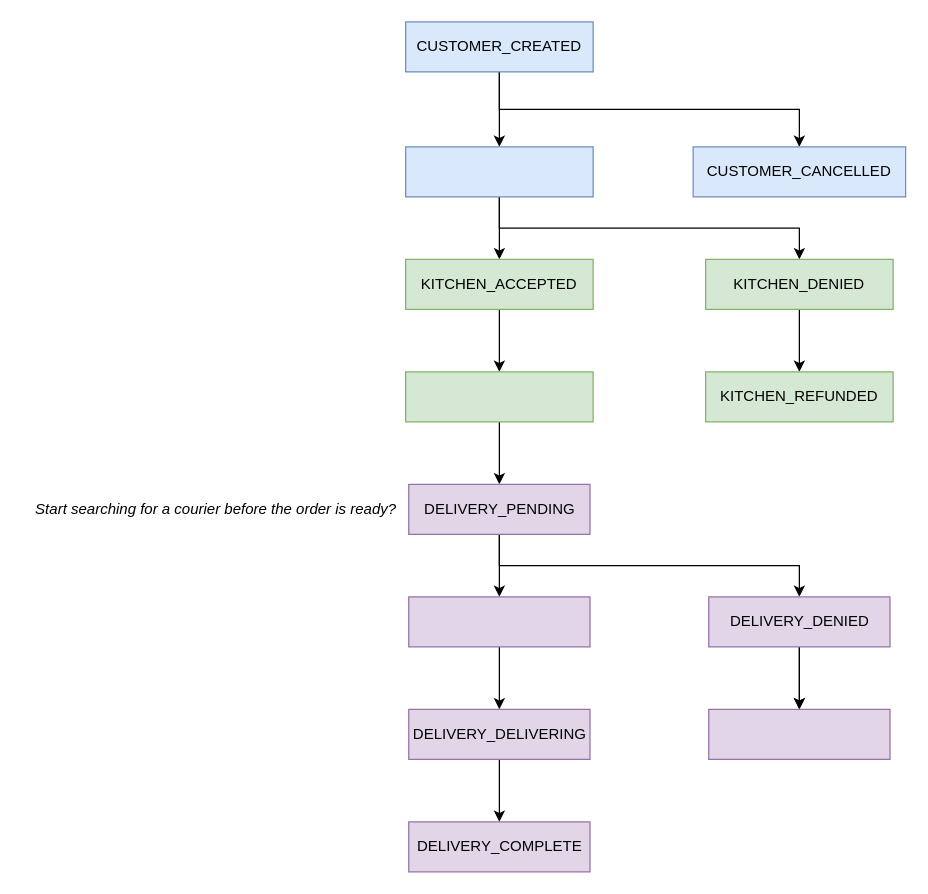
Image size: 928x894. Some labels were removed from this diagram. Each missing label, with the box of its shape:
CUSTOMER_PAID: (404, 146, 593, 197)
DELIVERY_PICKING: (408, 596, 590, 647)
DELIVERY_REFUNDED: (708, 708, 890, 759)
KITCHEN_PREPARING: (404, 371, 593, 422)
